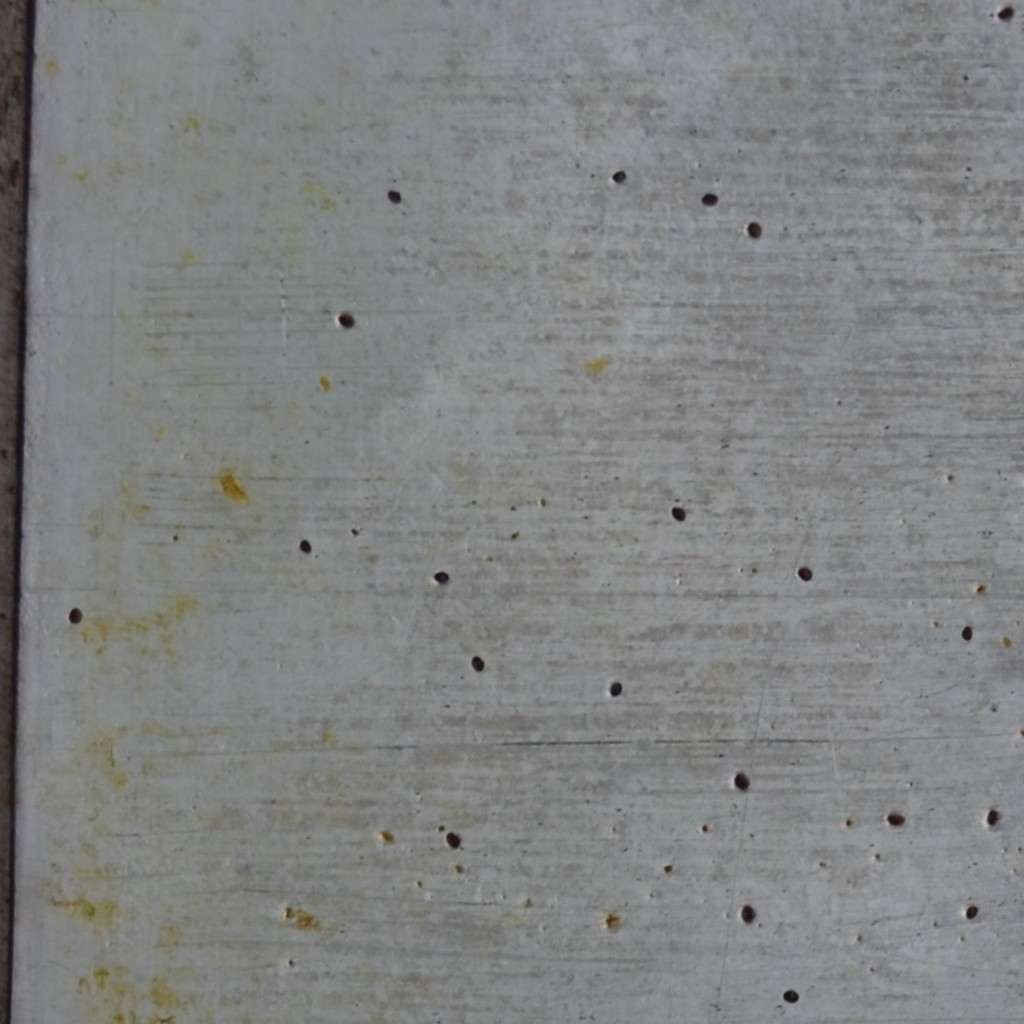varroa: (738, 902, 761, 927), (732, 768, 752, 795), (336, 307, 356, 332), (444, 829, 462, 854), (780, 987, 802, 1006), (66, 603, 84, 626), (745, 219, 765, 239), (886, 810, 909, 827), (668, 505, 687, 525), (701, 188, 718, 210), (607, 678, 623, 701), (994, 5, 1014, 23), (468, 654, 486, 674), (432, 566, 450, 586), (611, 164, 628, 185), (984, 806, 1000, 828), (385, 186, 402, 206), (964, 902, 981, 921), (298, 535, 313, 556), (797, 565, 815, 582), (960, 622, 974, 641)
